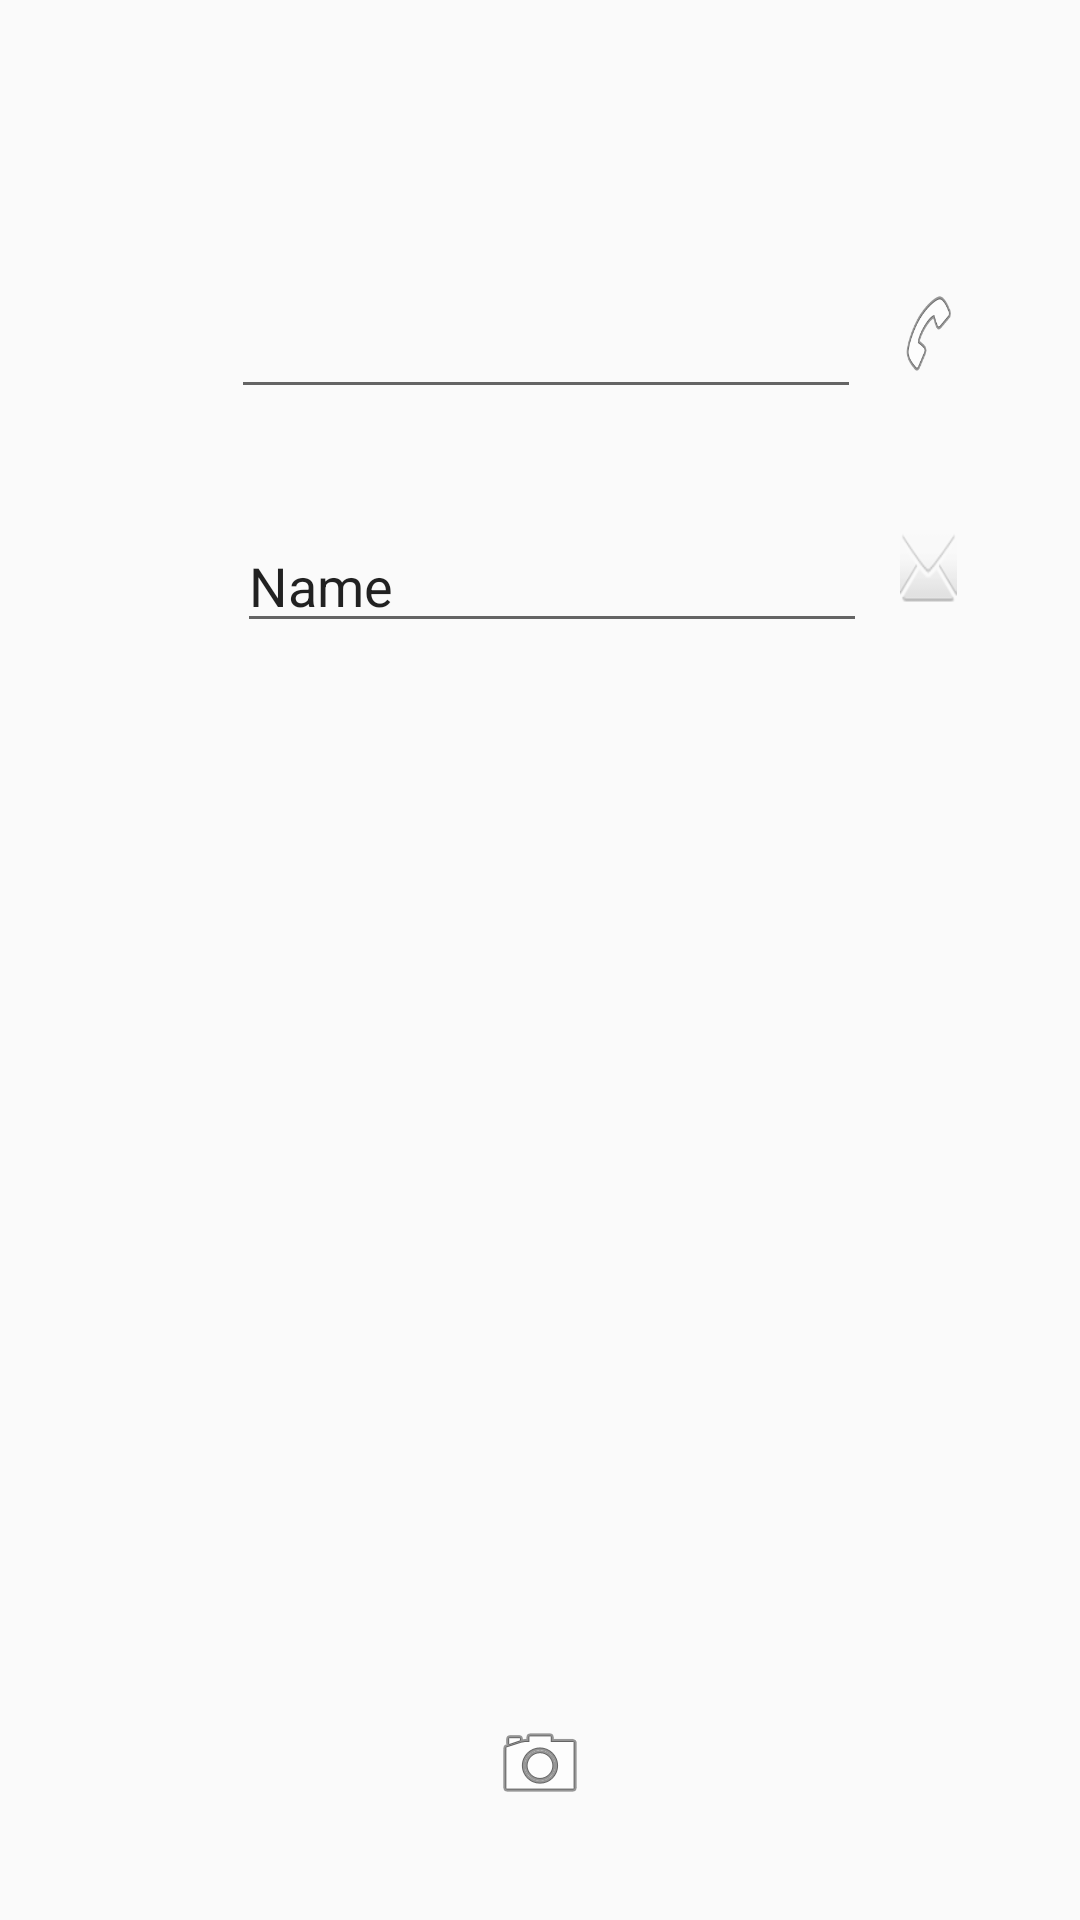

Icon click points for this 1080×1920 phone screenshot, format (x=x, y=y):
call: (x=928, y=333)
camera: (x=540, y=1762)
email: (x=928, y=569)
